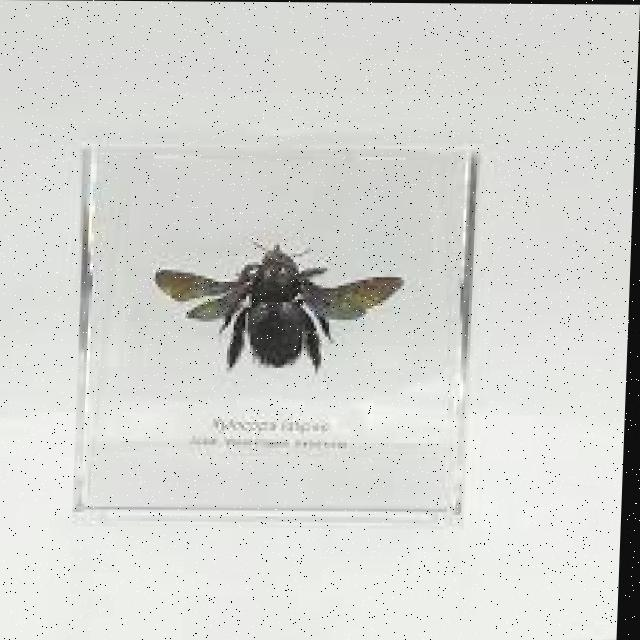Xylocopa: (132, 221, 444, 388)
